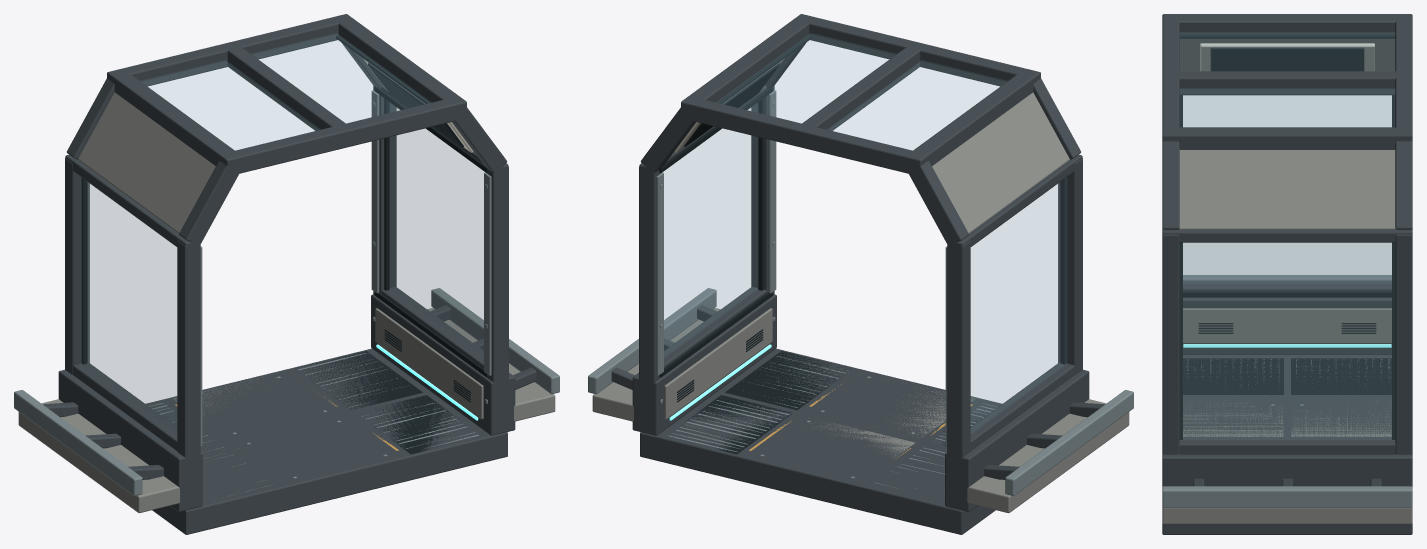
Rendered from 04-panoramic-bay.glb.
3 views of the same model, side by side, from view 1: azimuth 30°, elevation 25°; view 2: azimuth 150°, elevation 25°; view 3: azimuth 270°, elevation 25° (orthographic). The views are drawn at different scales.
Parts seen in each view (by area): view 1: GLASS__Blue-grey_glazing, FLOOR__Graphite_structural_alloy, STRUCTURE__Graphite_structural_alloy, ROOF__Graphite_structural_alloy, ROOF_GLASS__Blue-grey_glazing, ROOF__Warm_grey_removable_panels, FLOOR__Black_glazing_gaskets, OUTER_HULL__Machined_edge_steel, OUTER_HULL__Warm_grey_removable_panels, STRUCTURE__Black_glazing_gaskets, STRUCTURE__Machined_edge_steel, STRUCTURE__Warm_grey_removable_panels (+3 smaller); view 2: GLASS__Blue-grey_glazing, FLOOR__Graphite_structural_alloy, STRUCTURE__Graphite_structural_alloy, ROOF__Graphite_structural_alloy, ROOF_GLASS__Blue-grey_glazing, ROOF__Warm_grey_removable_panels, FLOOR__Black_glazing_gaskets, OUTER_HULL__Machined_edge_steel, OUTER_HULL__Warm_grey_removable_panels, STRUCTURE__Black_glazing_gaskets, STRUCTURE__Machined_edge_steel, STRUCTURE__Warm_grey_removable_panels (+4 smaller); view 3: GLASS__Blue-grey_glazing, STRUCTURE__Graphite_structural_alloy, ROOF__Graphite_structural_alloy, ROOF__Warm_grey_removable_panels, ROOF_GLASS__Blue-grey_glazing, FLOOR__Graphite_structural_alloy, FLOOR__Black_glazing_gaskets, STRUCTURE__Warm_grey_removable_panels, OUTER_HULL__Machined_edge_steel, ROOF__Black_glazing_gaskets, OUTER_HULL__Warm_grey_removable_panels, STRUCTURE__Black_glazing_gaskets (+4 smaller).
Part boxes in pixels (box(x1,y1,x2,y2)): GLASS__Blue-grey_glazing: box(81, 103, 484, 432); FLOOR__Graphite_structural_alloy: box(145, 348, 507, 534); STRUCTURE__Graphite_structural_alloy: box(58, 85, 515, 511); ROOF__Graphite_structural_alloy: box(67, 14, 507, 244); ROOF_GLASS__Blue-grey_glazing: box(141, 33, 430, 149); ROOF__Warm_grey_removable_panels: box(78, 58, 373, 233); FLOOR__Black_glazing_gaskets: box(155, 351, 460, 454); OUTER_HULL__Machined_edge_steel: box(14, 288, 559, 495); OUTER_HULL__Warm_grey_removable_panels: box(18, 308, 555, 513); STRUCTURE__Black_glazing_gaskets: box(81, 86, 488, 426); STRUCTURE__Machined_edge_steel: box(88, 90, 491, 446); STRUCTURE__Warm_grey_removable_panels: box(375, 308, 483, 419); GLASS__Blue-grey_glazing: box(663, 103, 1066, 432); FLOOR__Graphite_structural_alloy: box(640, 348, 1002, 534); STRUCTURE__Graphite_structural_alloy: box(632, 85, 1089, 511); ROOF__Graphite_structural_alloy: box(640, 14, 1080, 244); ROOF_GLASS__Blue-grey_glazing: box(717, 33, 1006, 149); ROOF__Warm_grey_removable_panels: box(774, 58, 1069, 233); FLOOR__Black_glazing_gaskets: box(686, 351, 992, 472); OUTER_HULL__Machined_edge_steel: box(588, 288, 1133, 495); OUTER_HULL__Warm_grey_removable_panels: box(592, 308, 1129, 513); STRUCTURE__Black_glazing_gaskets: box(659, 86, 1066, 426); STRUCTURE__Machined_edge_steel: box(656, 90, 1059, 446); STRUCTURE__Warm_grey_removable_panels: box(664, 308, 772, 419); GLASS__Blue-grey_glazing: box(1180, 96, 1394, 439); STRUCTURE__Graphite_structural_alloy: box(1162, 229, 1412, 486); ROOF__Graphite_structural_alloy: box(1162, 14, 1412, 229); ROOF__Warm_grey_removable_panels: box(1179, 39, 1395, 229); ROOF_GLASS__Blue-grey_glazing: box(1180, 32, 1394, 126); FLOOR__Graphite_structural_alloy: box(1162, 354, 1412, 534); FLOOR__Black_glazing_gaskets: box(1183, 358, 1391, 394); STRUCTURE__Warm_grey_removable_panels: box(1183, 308, 1391, 343); OUTER_HULL__Machined_edge_steel: box(1162, 275, 1412, 507); ROOF__Black_glazing_gaskets: box(1179, 34, 1395, 71); OUTER_HULL__Warm_grey_removable_panels: box(1162, 507, 1412, 524); STRUCTURE__Black_glazing_gaskets: box(1179, 95, 1395, 439).
Bounding box in the file's own units: 4.15 × 3.4 × 2.03.
